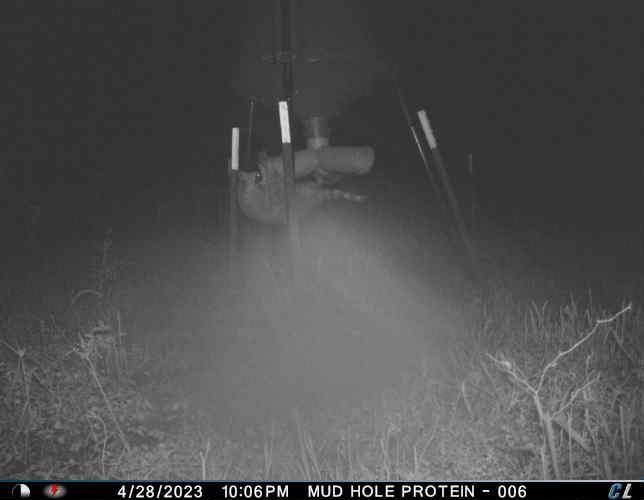Raccoon: (234, 168, 371, 229)
